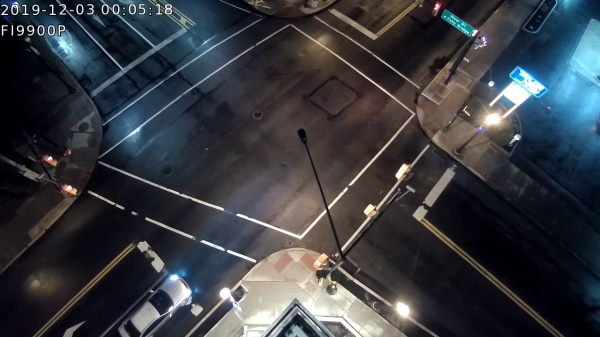car: (115, 273, 194, 337)
